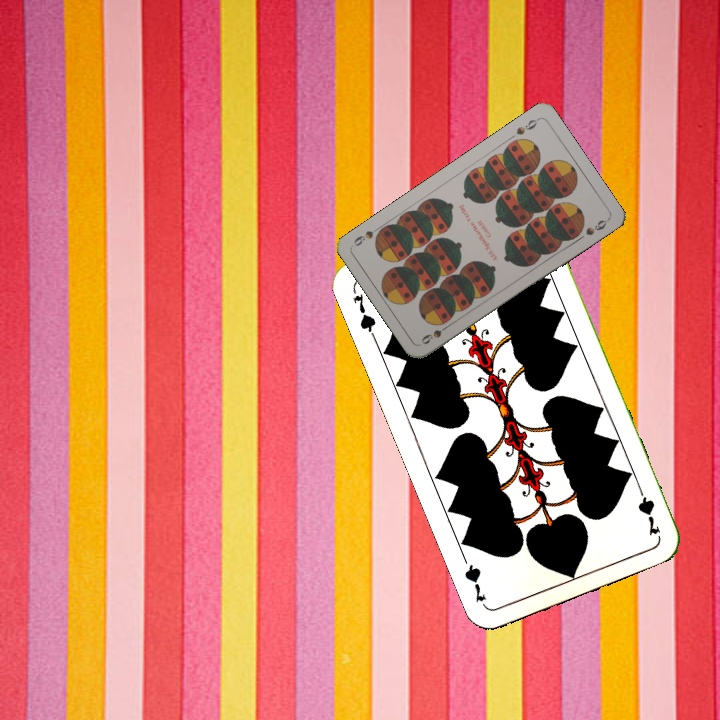G7: (633, 480, 664, 538), (349, 289, 379, 340)
S9: (417, 319, 454, 347), (512, 114, 542, 138)
